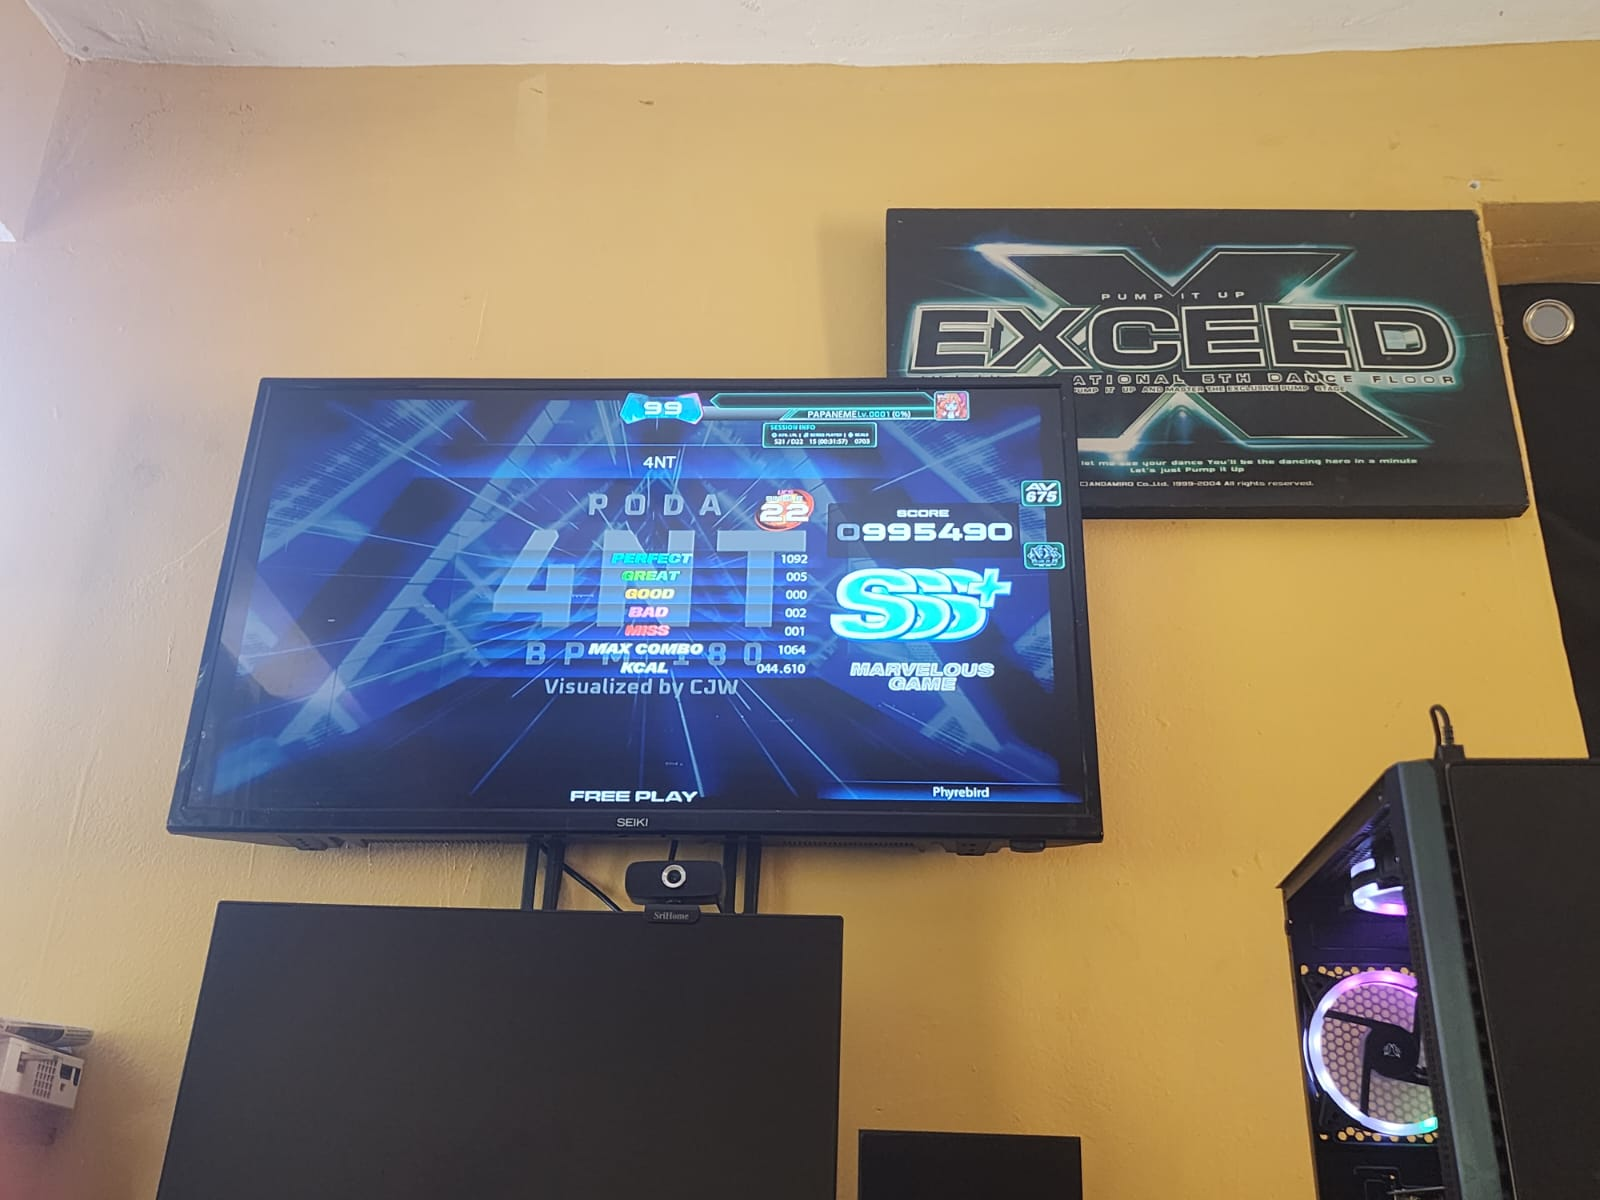difficulty: (751, 485, 819, 527)
fullscore: (627, 373, 1092, 800)
rank: (829, 551, 1019, 648)
score: (837, 493, 1026, 551)
song_name: (517, 442, 801, 487)
